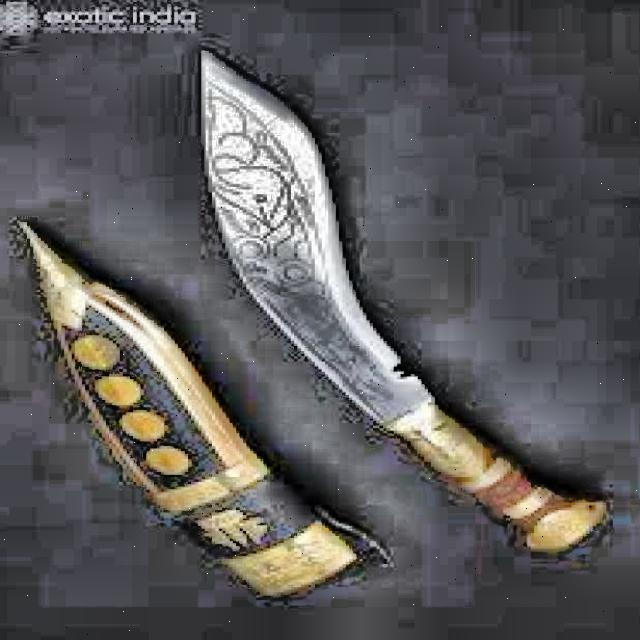knife: (191, 52, 621, 562)
